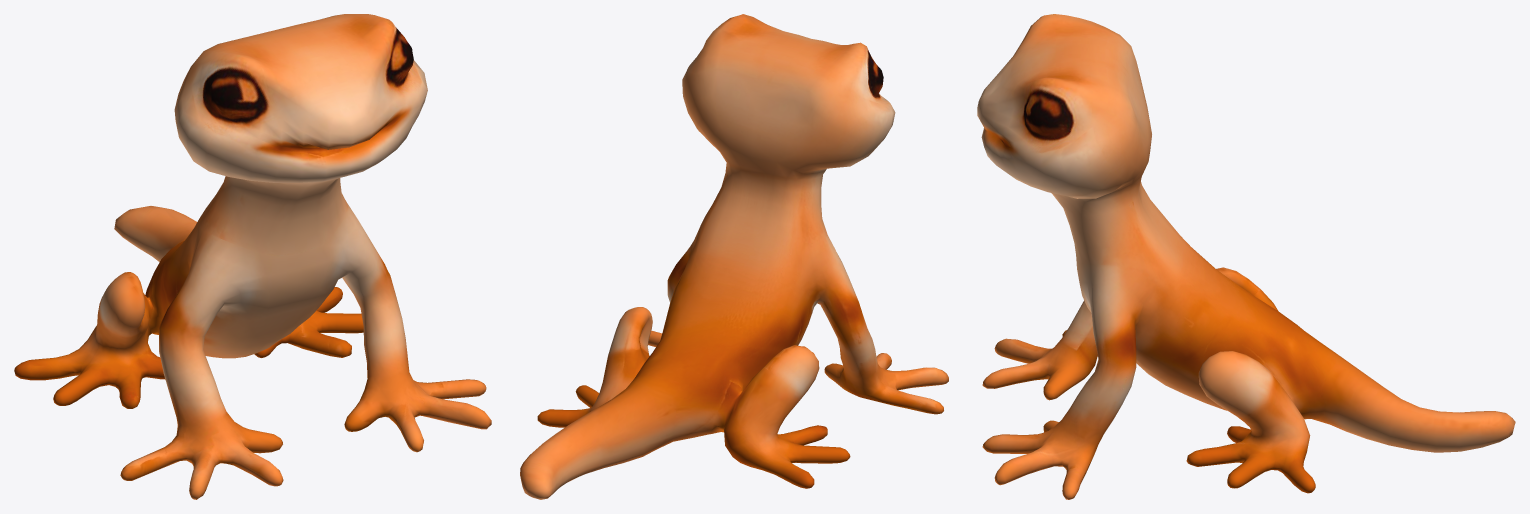
The model's file is geckoorange.glb.
The picture shows the model from 3 angles, left to right: view 1: azimuth 30°, elevation 25°; view 2: azimuth 150°, elevation 25°; view 3: azimuth 270°, elevation 25°; orthographic projection. The views are drawn at different scales.
Visible parts, largest first — view 1: Gecko; view 2: Gecko; view 3: Gecko.
Part boxes in pixels (x1=…): Gecko: x1=14, y1=14, x2=491, y2=499; Gecko: x1=520, y1=14, x2=948, y2=499; Gecko: x1=977, y1=14, x2=1515, y2=499.
Bounding box in the file's own units: 1.44 × 1.54 × 2.01.
Materials: 1 (1 with a texture image).
